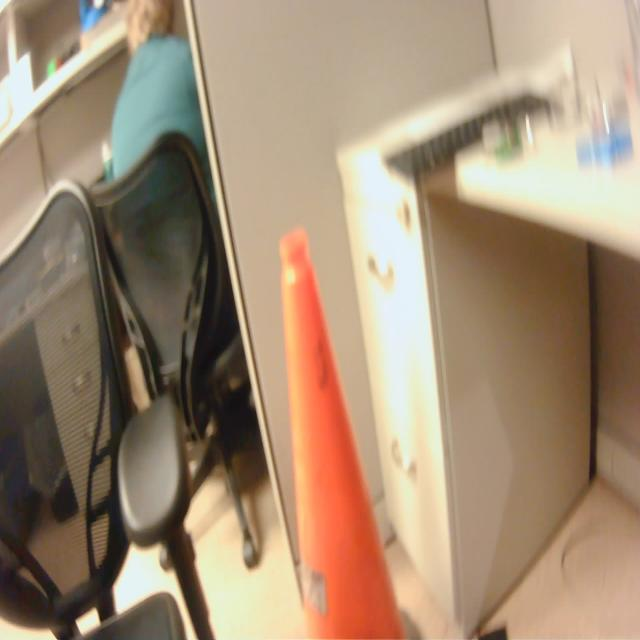traffic cone: (273, 222, 430, 640)
